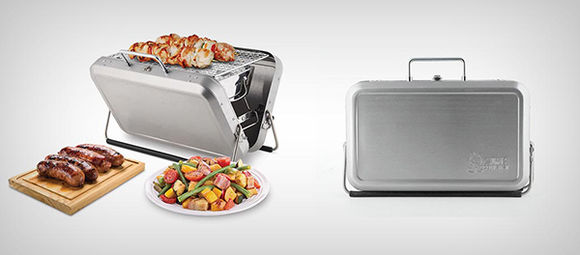shoutibox: (342, 52, 537, 202)
